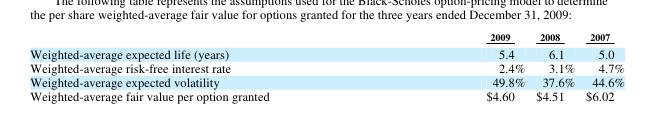table: (29, 29, 624, 103)
table column: (29, 29, 377, 103), (377, 29, 529, 103), (529, 29, 579, 103), (579, 29, 624, 103)
table column header: (29, 29, 624, 44)
table row: (29, 44, 624, 60), (29, 29, 624, 44), (29, 88, 624, 103), (29, 60, 624, 74), (29, 74, 624, 88)
